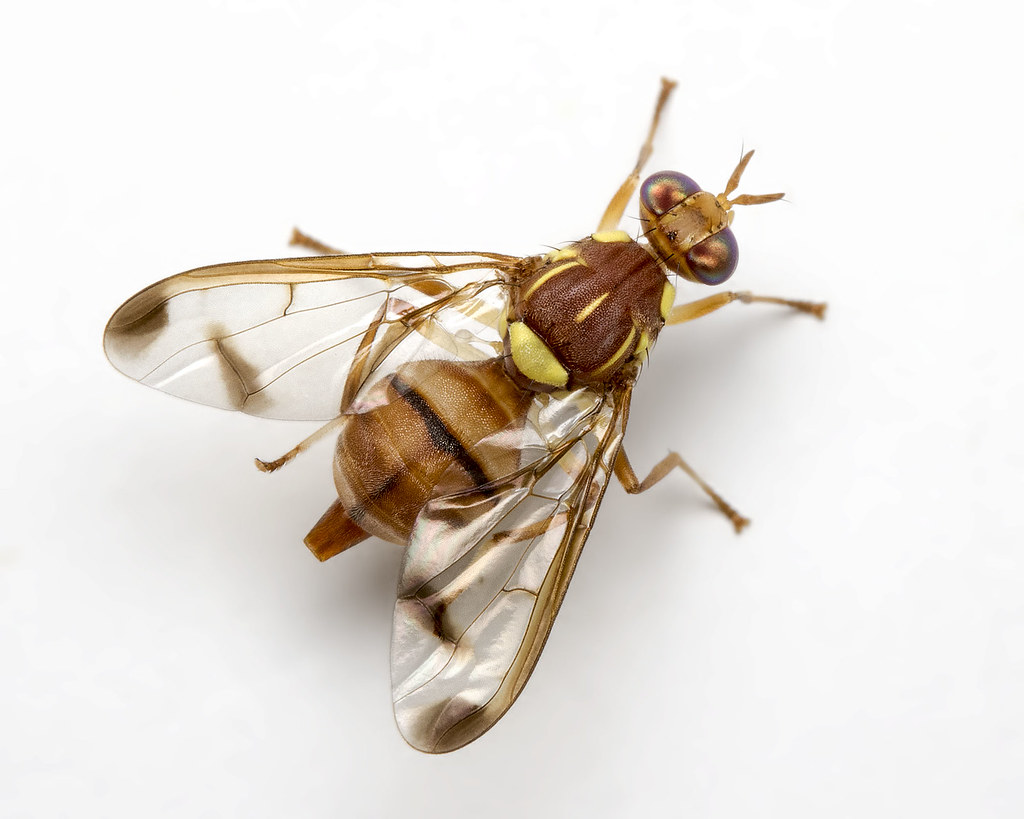Fruit fly: (232, 99, 827, 656)
